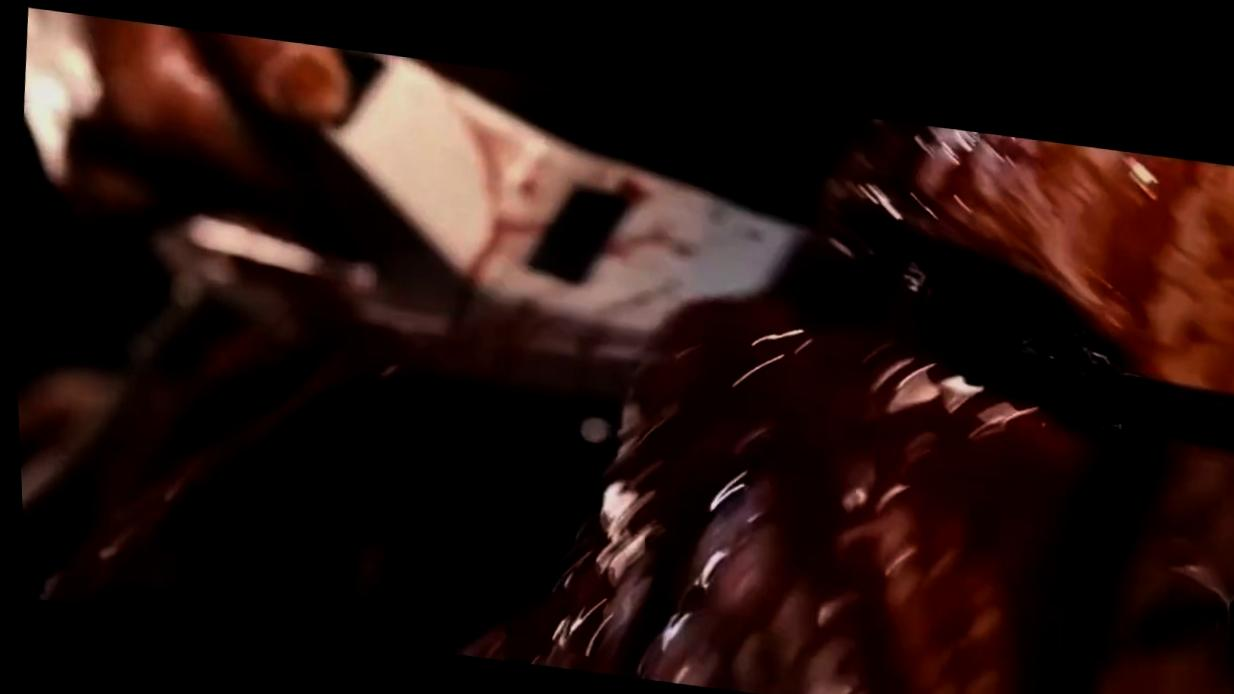Fire: (18, 111, 1234, 694)
